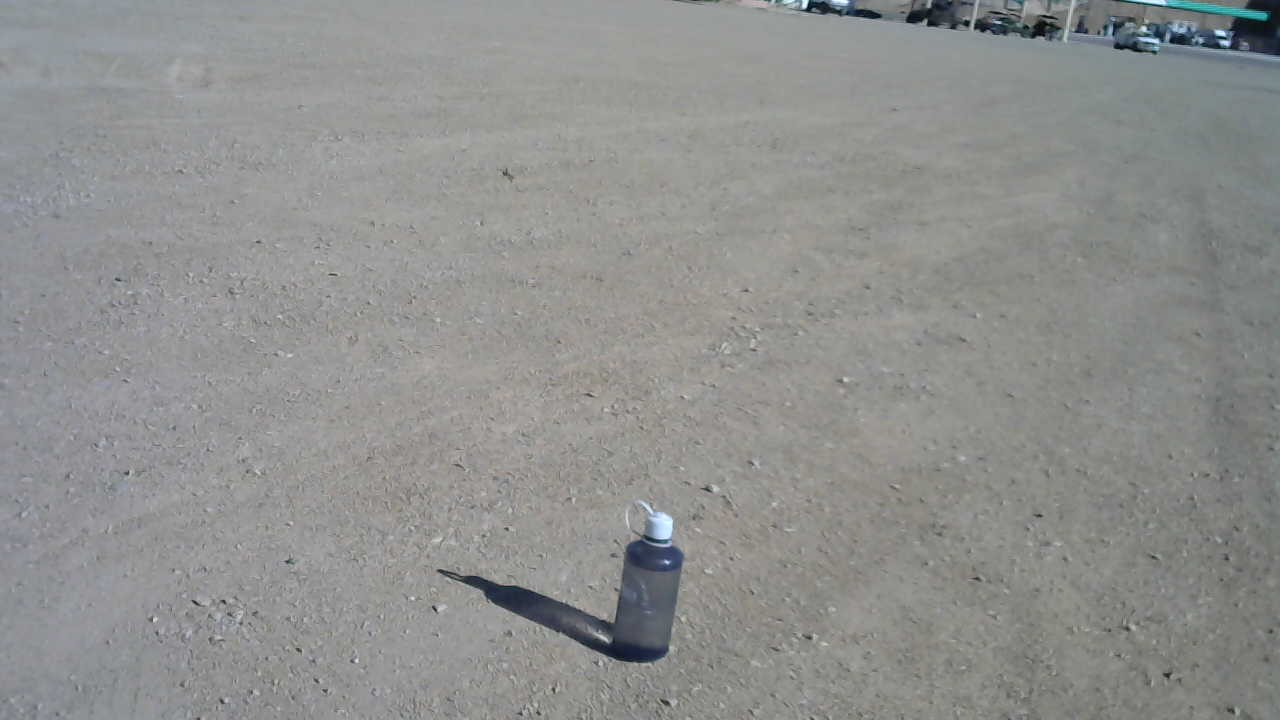bottle: (608, 500, 688, 664)
